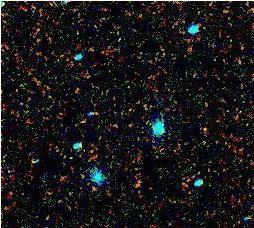star: (174, 32, 204, 62)
